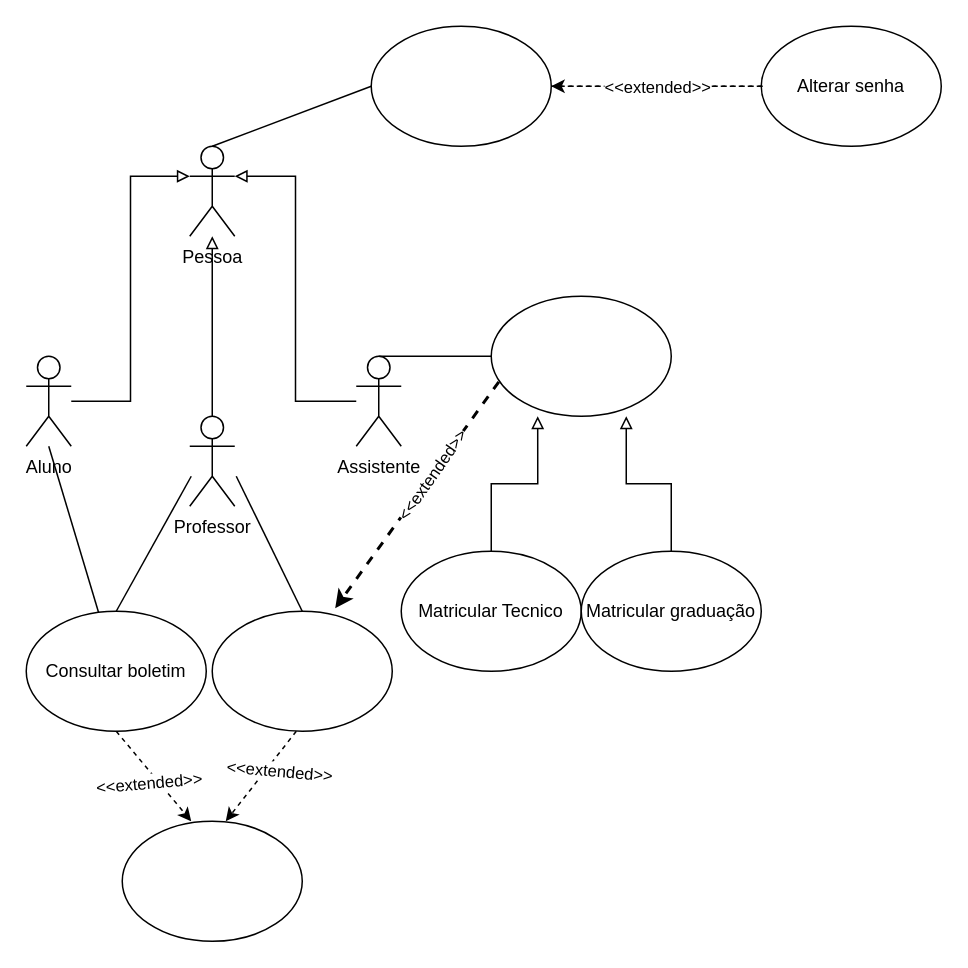
The diagram is 968 pixels wide and 968 high, and some of its shapes have lost their labels. Each missing label, with the box of its shape:
EFETUAR LOGIN: (370, 25, 551, 146)
Gerar Log de acesso a notas: (121, 820, 302, 941)
Lançar notas: (211, 610, 392, 731)
Matricular Aluno: (490, 295, 671, 416)
